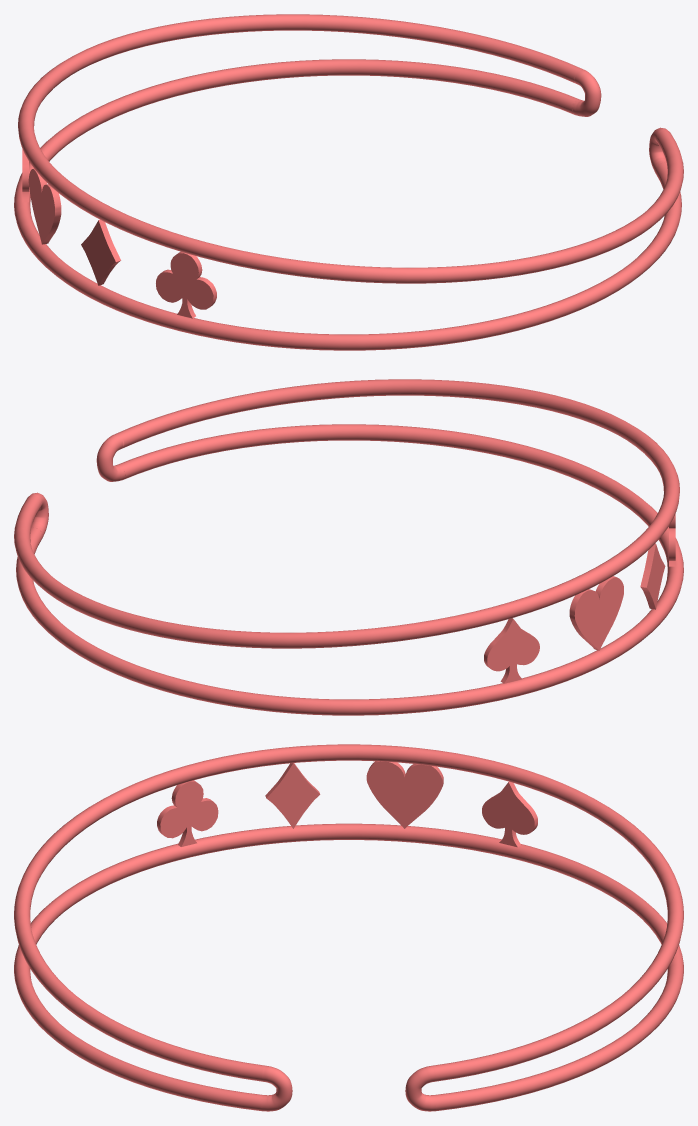
Rendered from 8-pink.fbx.
3 views of the same model, one above another, from view 1: azimuth 30°, elevation 25°; view 2: azimuth 150°, elevation 25°; view 3: azimuth 270°, elevation 25° (orthographic).
Parts seen in each view (by area): view 1: Arc002, Line012, Line010, Line011; view 2: Arc002, Line010, Line009, Line011; view 3: Arc002, Line010, Line012, Line009, Line011.
Part boxes in pixels (x1=…): Arc002: x1=14, y1=14, x2=683, y2=350; Line012: x1=156, y1=251, x2=216, y2=318; Line010: x1=28, y1=168, x2=61, y2=244; Line011: x1=81, y1=219, x2=120, y2=285; Arc002: x1=14, y1=379, x2=683, y2=715; Line010: x1=569, y1=576, x2=623, y2=650; Line009: x1=484, y1=618, x2=539, y2=683; Line011: x1=640, y1=543, x2=665, y2=609; Arc002: x1=14, y1=744, x2=683, y2=1111; Line010: x1=366, y1=761, x2=443, y2=828; Line012: x1=157, y1=780, x2=218, y2=846; Line009: x1=482, y1=781, x2=537, y2=847; Line011: x1=265, y1=763, x2=320, y2=828.
Size of the model in its own units: 20.32 by 3.24 by 20.5.
